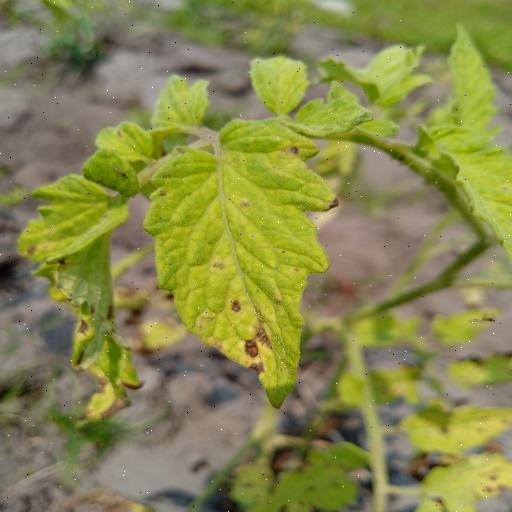Tomato_Brown_Spots: (144, 125, 349, 414)
